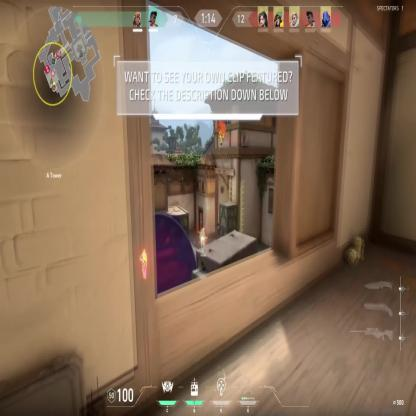enemy: (140, 248, 147, 280)
enemy_head: (143, 249, 145, 254)
